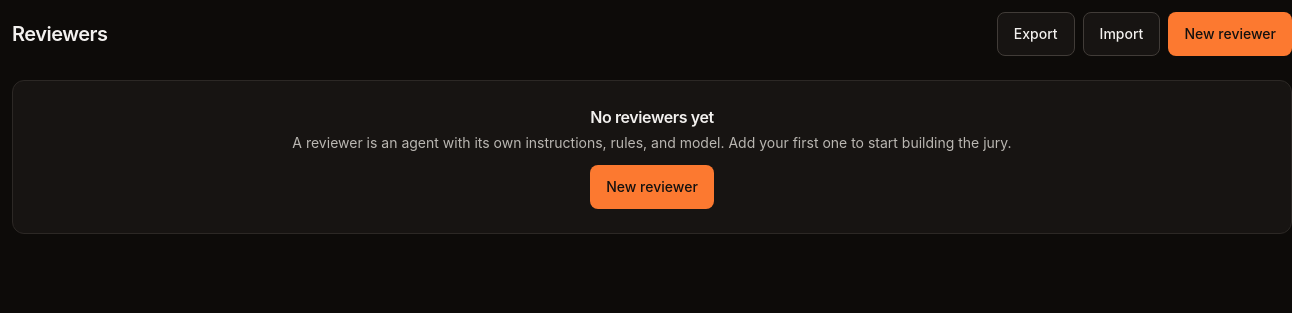
Test: error taxonomy on a screen › renders the shared sentence for a known code
Check: the heading "No reviewers yet" is shown, box [590,107,714,127]
Step 1. Click the button "Export" → (1036, 34), box [997,12,1075,56]
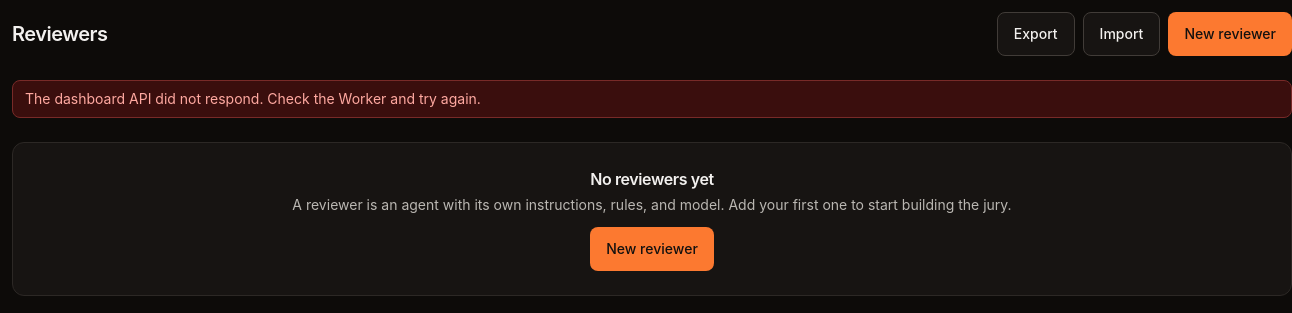
Check: the text "The dashboard API did not respond. Check the Worker and try again." is shown, box [12,80,1291,118]
